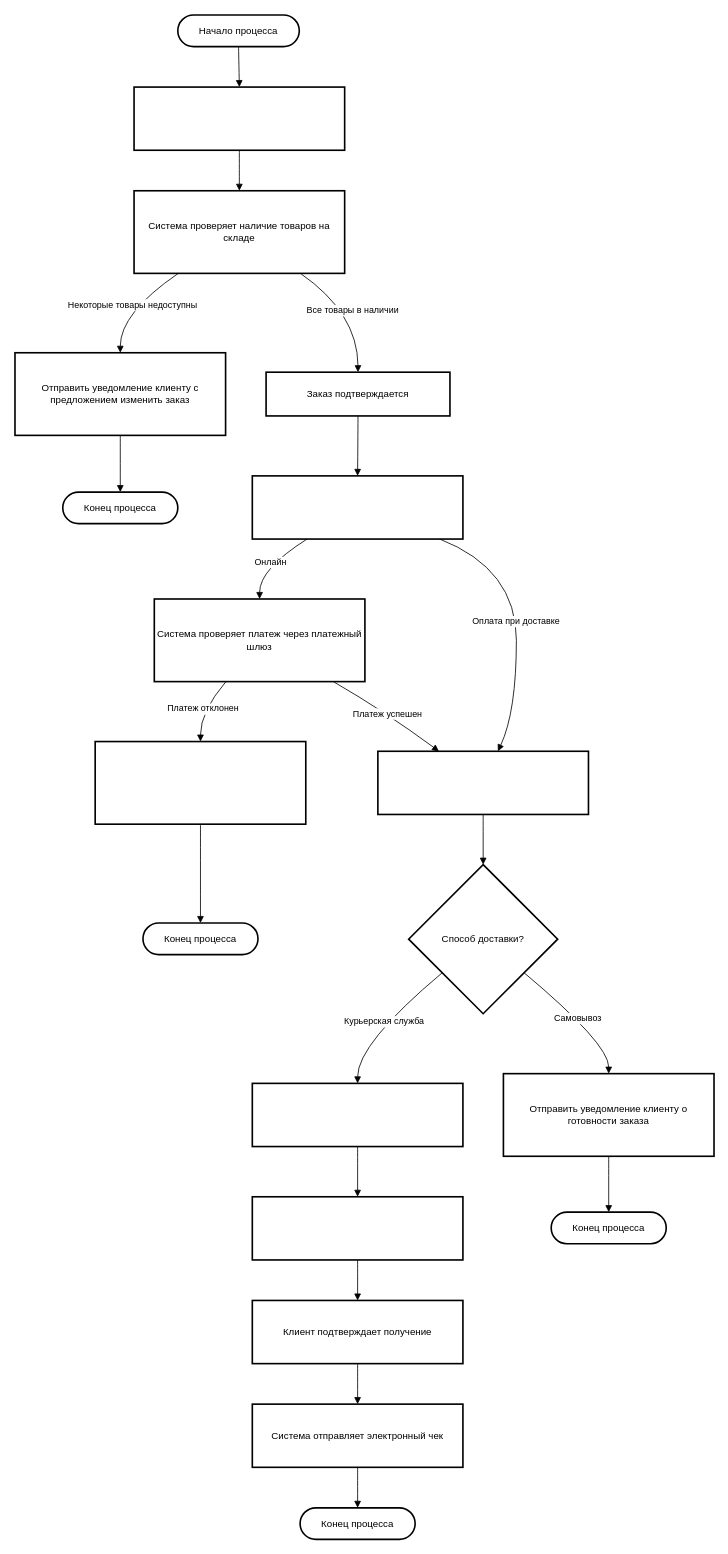
Some shapes in this 728 by 1554 pixel diagram are drawn without their labels. Here are the shapes that lost their labels. From the top down, the centre of each, then its label:
the point at 239,118: Клиент создает заказ через сайт
the point at 357,507: Клиент выбирает способ оплаты
the point at 200,782: Отправить уведомление клиенту с предложением повторить оплату
the point at 483,782: Склад начинает сборку заказа
the point at 357,1114: Система отправляет заявку в службу доставки
the point at 357,1228: Курьер доставляет товар клиенту
